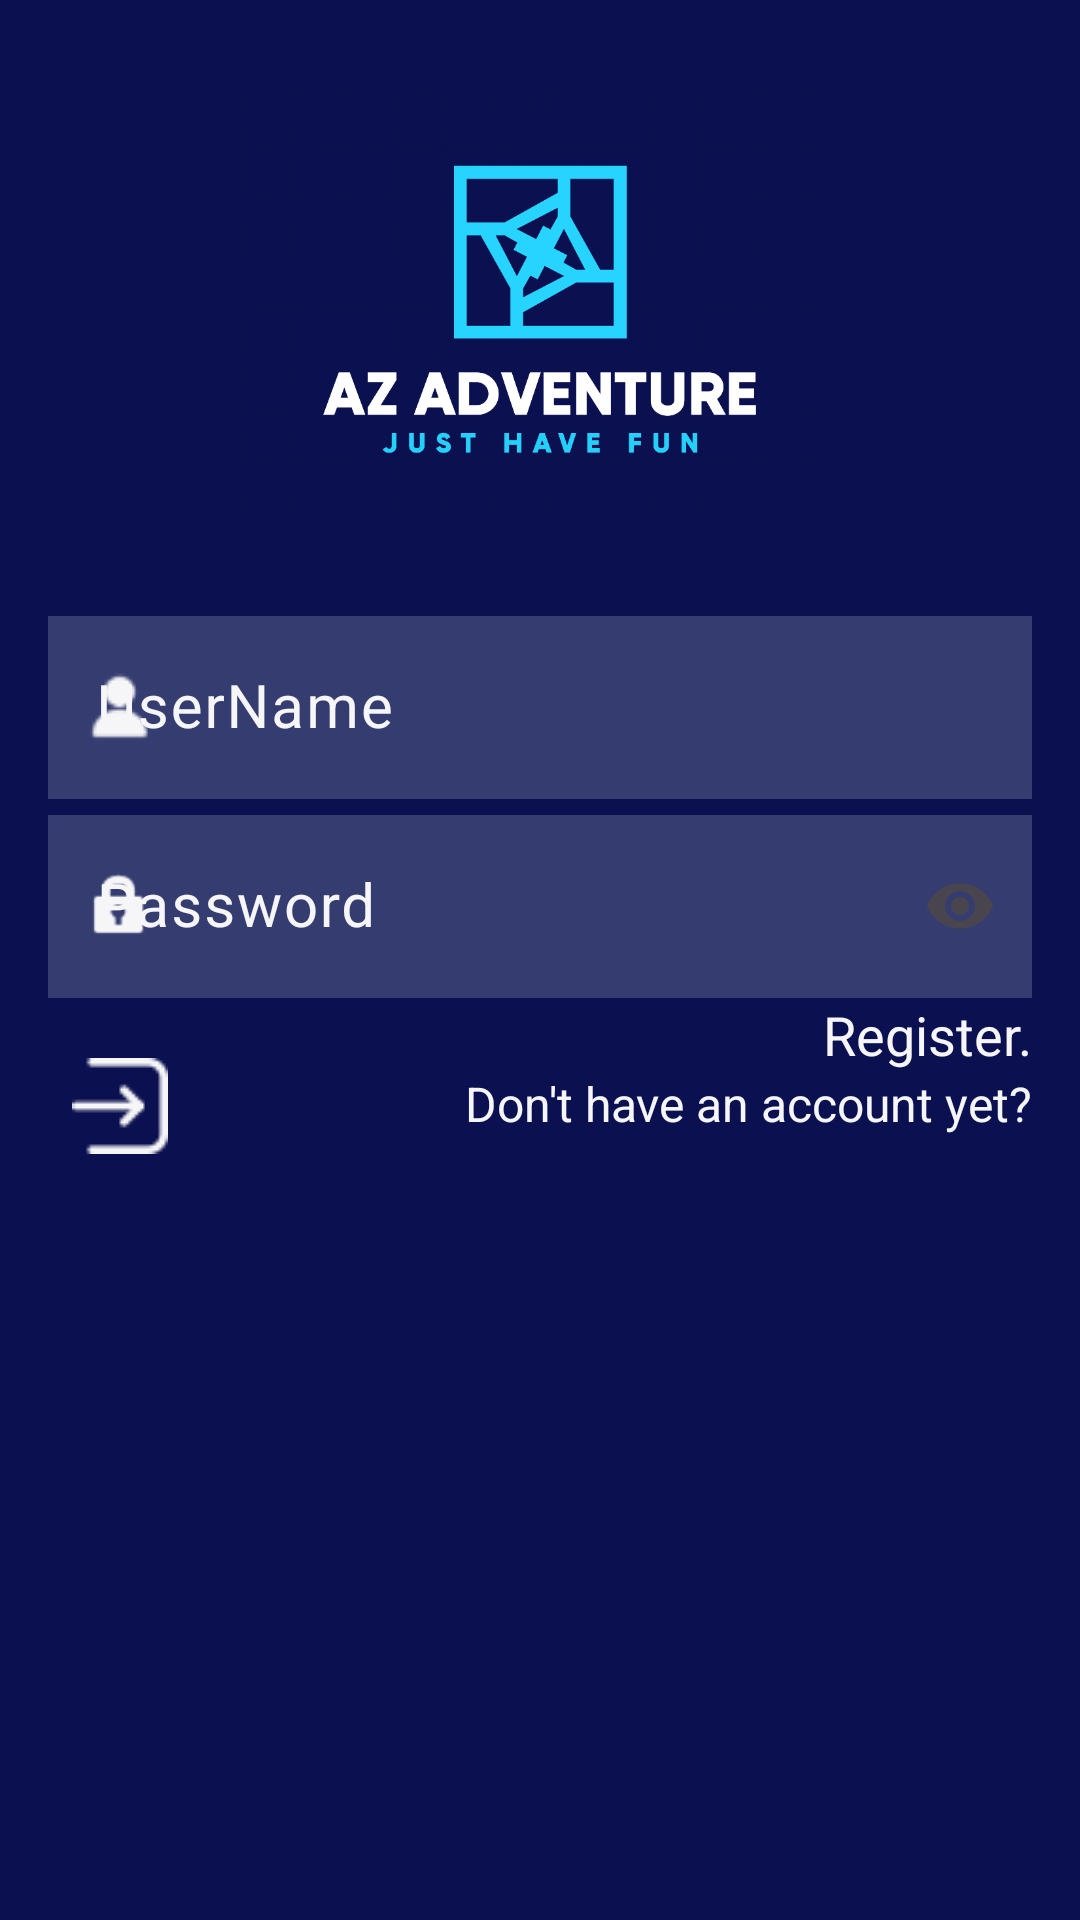

Icons on this 1080w x 1920h Android screen, each with the point to tap as (x=x, y=y):
login: (x=120, y=1106)
